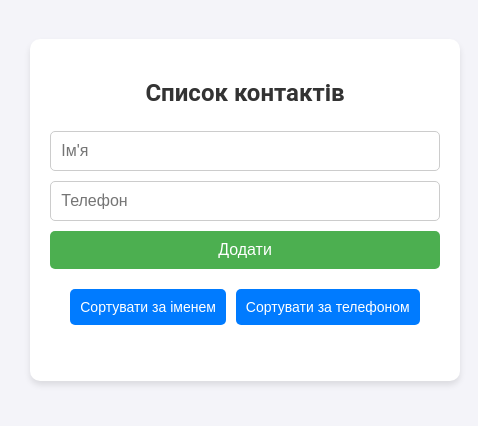
Editing a contact › should edit an existing contact
Type "Володимир" into the field with placeholder "Ім".
click(245, 151); type("Володимир")  # box [50,131,440,171]
Type "1234567890" into the field with placeholder "Телефон".
click(245, 201); type("1234567890")  # box [50,181,440,221]
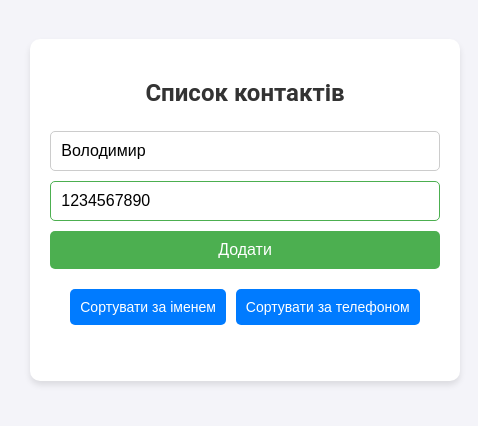
Click the button "Додати".
click(245, 250)  # box [50,231,440,269]
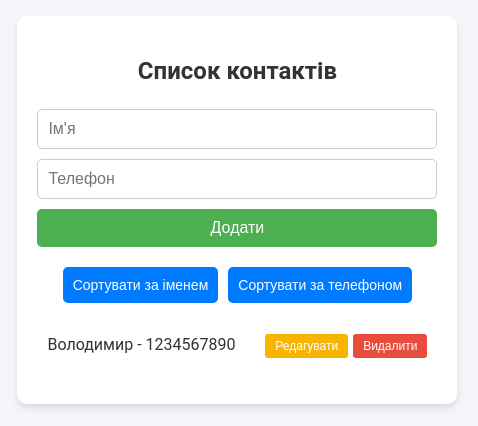
Click the button "Редагувати".
click(307, 346)  # box [265,334,348,358]
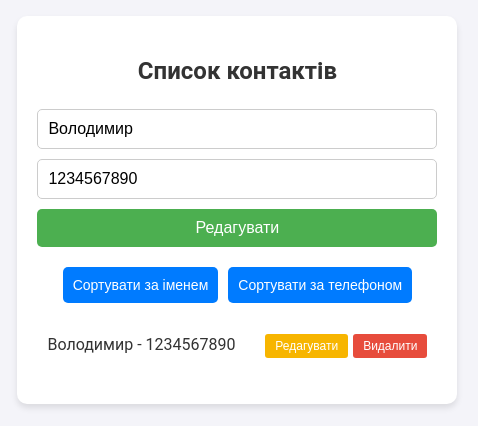
Replace the text in the 1st field with placeholder "Ім" with "Ганна" at (237, 129), box [37,109,437,149]
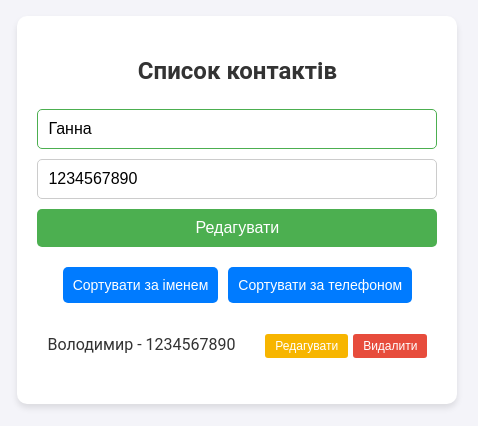
Replace the text in the 2nd field with placeholder "Телефон" with "0987654321" at (237, 179), box [37,159,437,199]
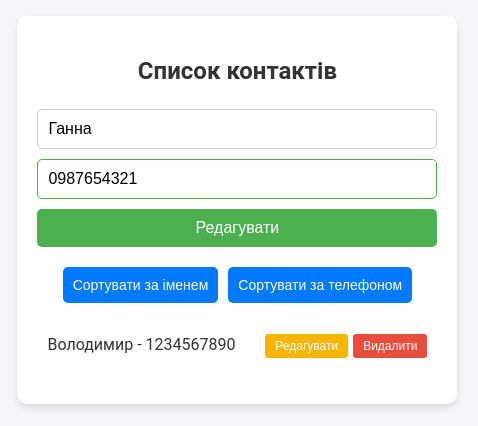
Click the 1st button "Редагувати".
click(237, 228)  # box [37,209,437,247]
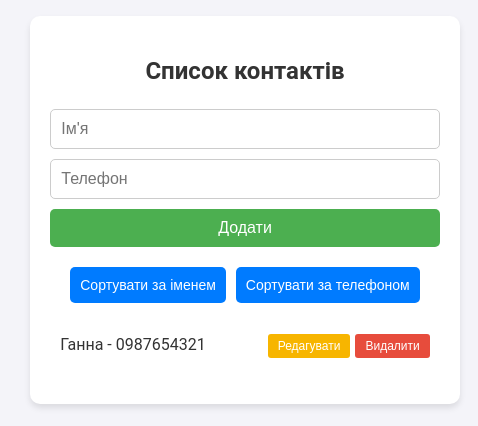
Check: the text with class "contacts-list" reads "Ганна - 0987654321", box [60,333,205,357]
Check: the text with class "contacts-list" no longer shows "Володимир - 1234567890"
